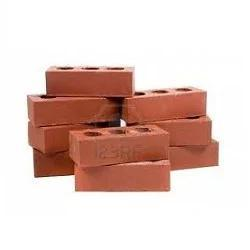brick: (76, 163, 171, 191), (129, 91, 207, 124), (33, 99, 116, 127), (45, 69, 132, 95), (171, 143, 220, 171), (168, 123, 210, 147), (35, 155, 75, 177)
